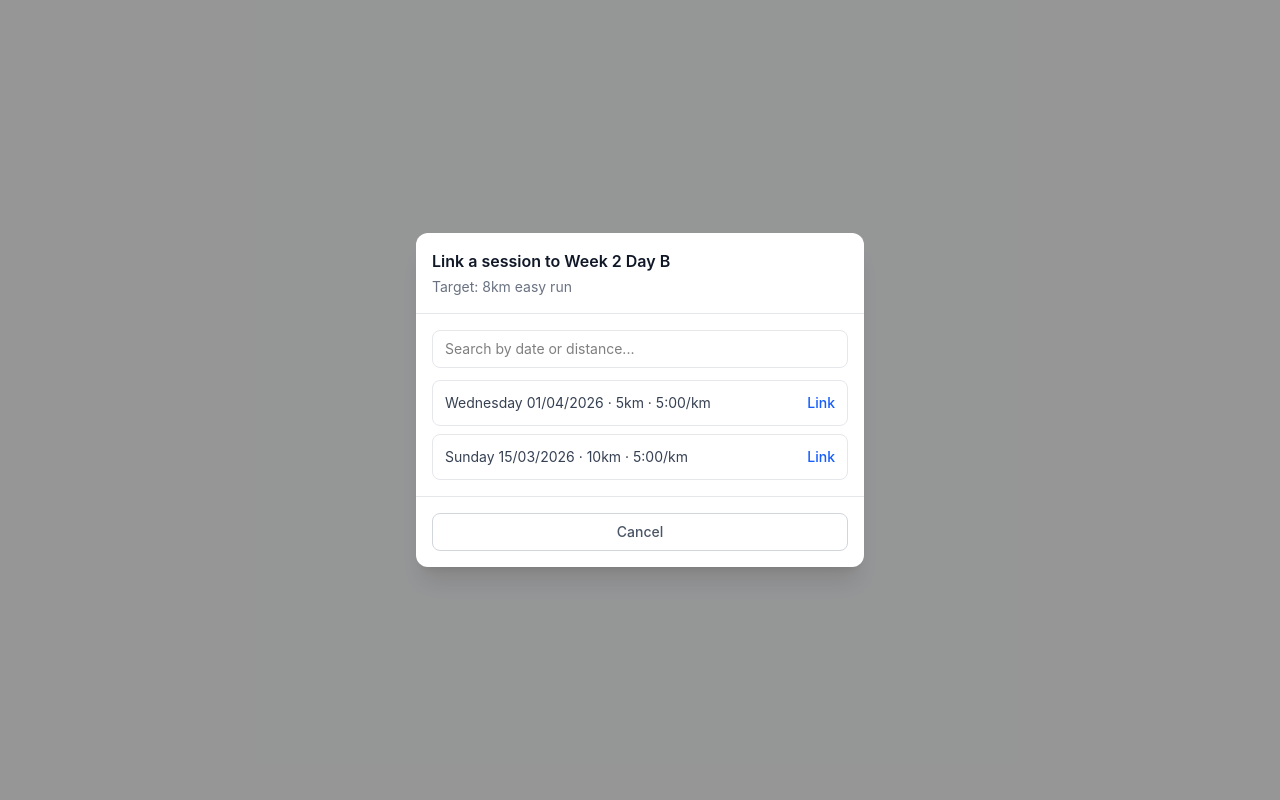
LinkRunModal › filters runs by search query (date match)
Type "wednesday" into the field with placeholder "Search by date or distance..." at point(640, 349), box [432,330,848,368]
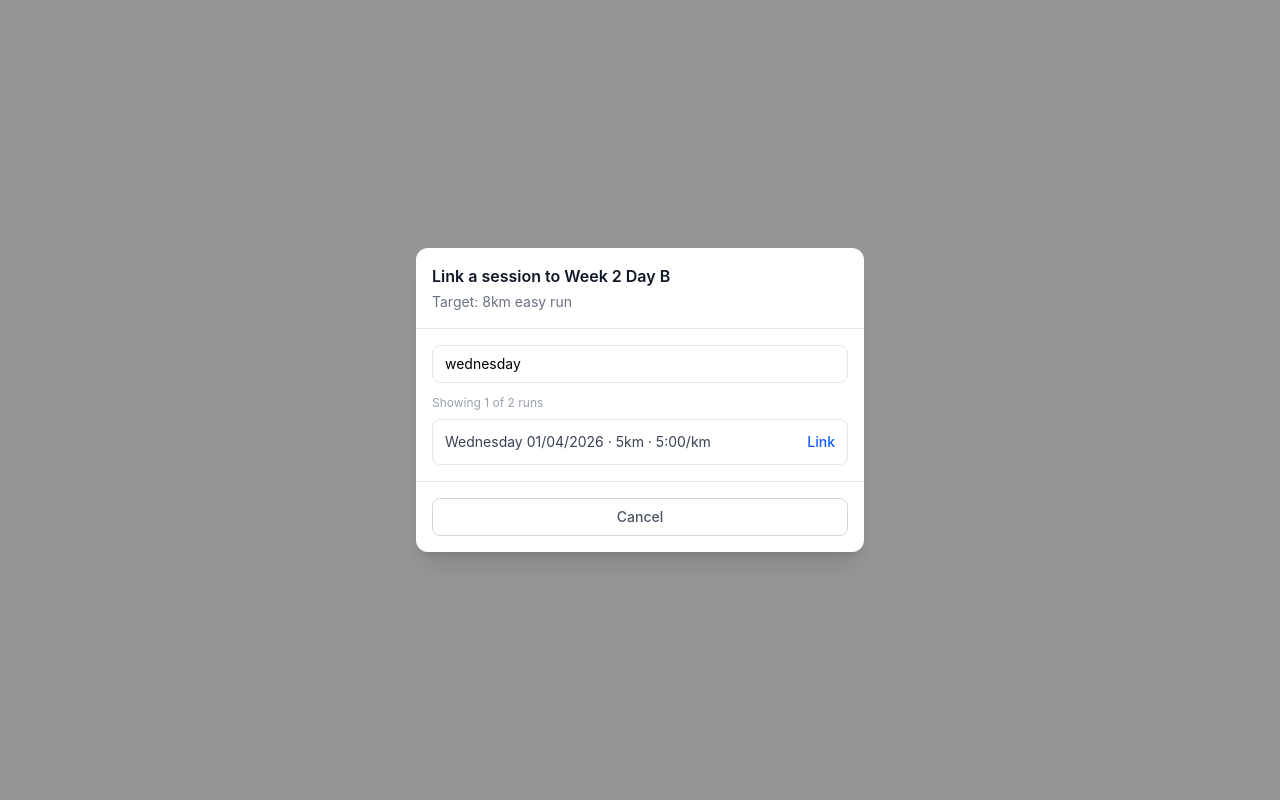
Result: the number of buttons "Link" is 1 at [807,432,835,452]
